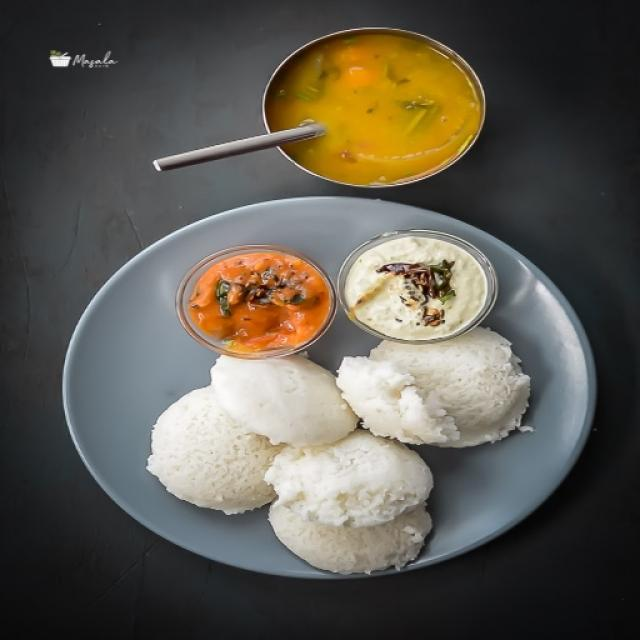IDLI: (146, 328, 529, 572)
RED CHUTNEY: (182, 249, 332, 356)
SAMBAR: (265, 29, 484, 185)
WHITE CHUTNEY: (338, 230, 496, 341)
